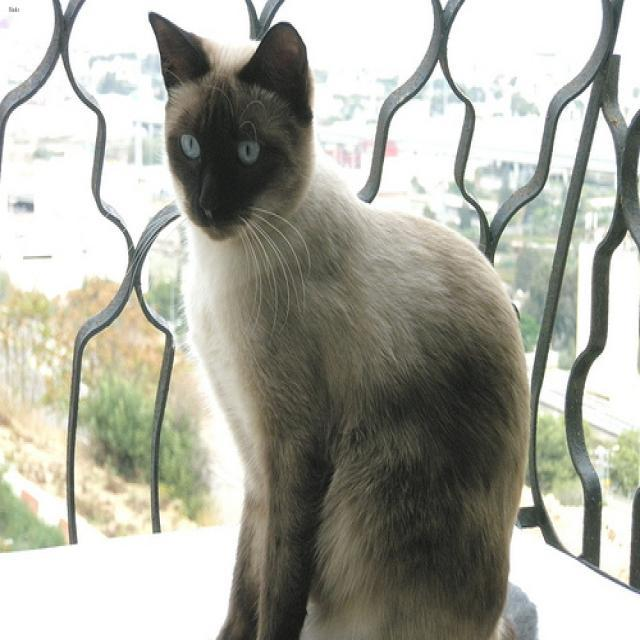Siamese: (144, 2, 322, 248)
